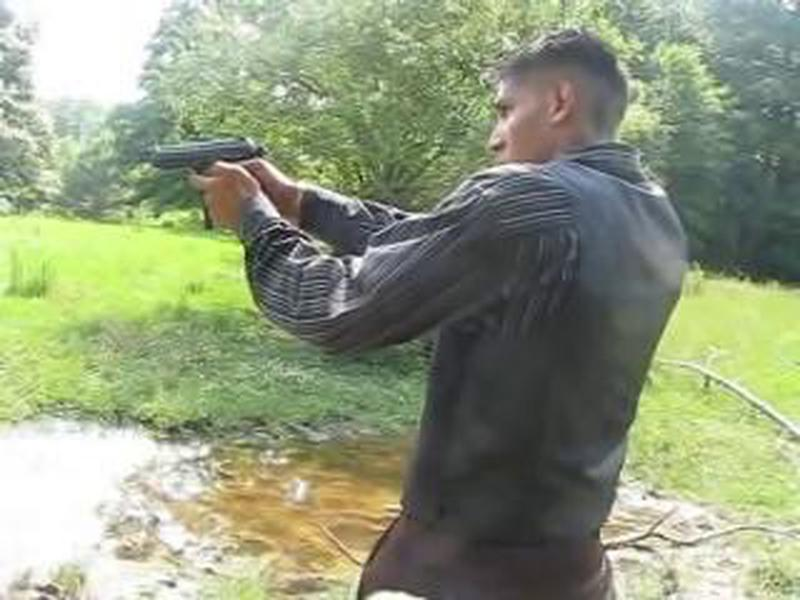Pistola: (138, 123, 267, 201)
